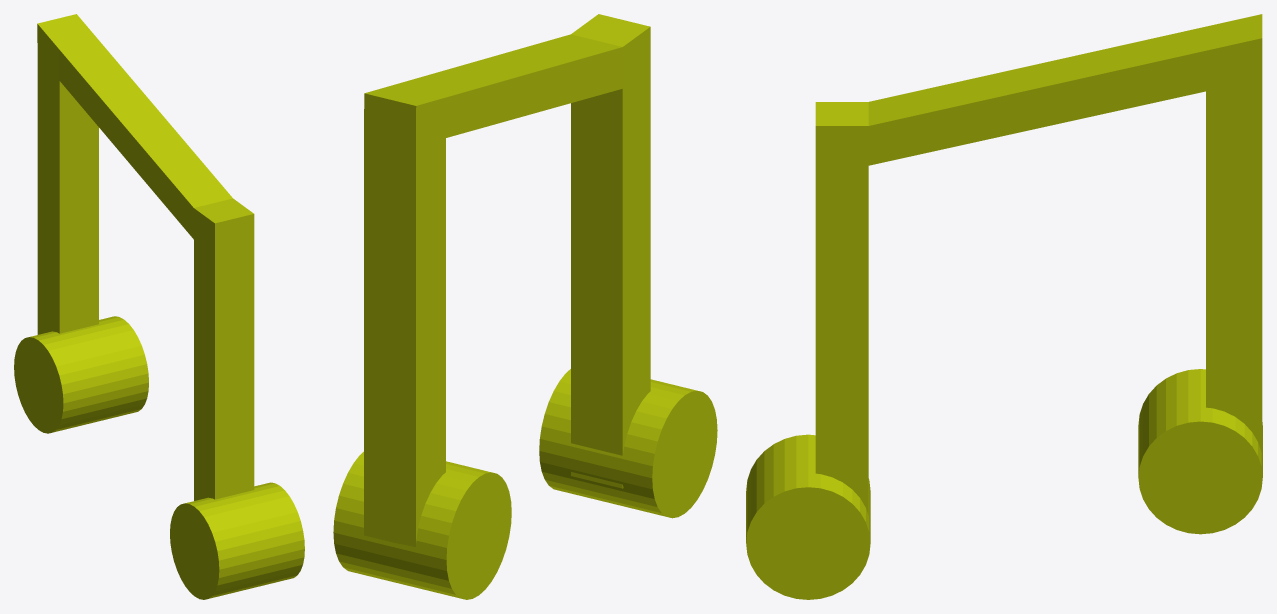
File: musicnote.obj
3 renders of one model, left to right at view 1: azimuth 30°, elevation 25°; view 2: azimuth 150°, elevation 25°; view 3: azimuth 270°, elevation 25°, orthographic. The views are drawn at different scales.
Parts seen in each view (by area): view 1: Cube, Cylinder, Cylinder.001; view 2: Cube, Cylinder, Cylinder.001; view 3: Cube, Cylinder, Cylinder.001.
Part boxes in pixels (left/top/right/bottom): Cube: left=37, top=14, right=254, bottom=500; Cylinder: left=170, top=482, right=304, bottom=599; Cylinder.001: left=14, top=316, right=148, bottom=433; Cube: left=364, top=14, right=650, bottom=546; Cylinder: left=539, top=369, right=717, bottom=518; Cylinder.001: left=333, top=451, right=511, bottom=599; Cube: left=815, top=14, right=1262, bottom=515; Cylinder: left=746, top=434, right=870, bottom=599; Cylinder.001: left=1138, top=369, right=1262, bottom=534.
Size of the model in its own units: 0.1602 by 0.7777 by 0.6651.
